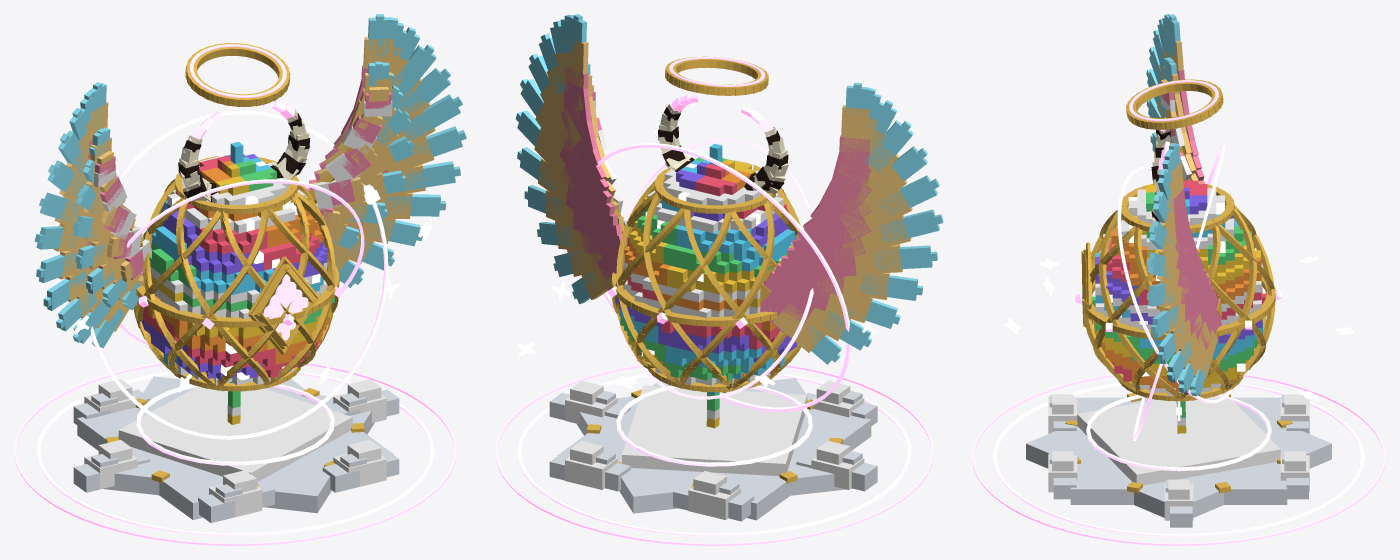
Rendered from egg_leg_arcoiris.glb.
3 views of the same model, side by side, from view 1: azimuth 30°, elevation 25°; view 2: azimuth 150°, elevation 25°; view 3: azimuth 270°, elevation 25° (orthographic). The views are drawn at different scales.
Parts seen in each view (by area): view 1: root_geo, wing_L_geo, shell_geo, wing_R_geo, egg_geo, floor_rings_geo, orbit1_geo, crown_geo, emblem_geo, halo_geo, orbit2_geo; view 2: root_geo, wing_R_geo, shell_geo, wing_L_geo, egg_geo, floor_rings_geo, crown_geo, orbit1_geo, halo_geo, orbit2_geo; view 3: root_geo, shell_geo, egg_geo, wing_L_geo, floor_rings_geo, wing_R_geo, halo_geo, orbit2_geo, orbit1_geo, crown_geo, emblem_geo.
Boxes of the visible parts, bbox=[...] form: root_geo: bbox=[73, 376, 399, 522]; wing_L_geo: bbox=[306, 14, 466, 287]; shell_geo: bbox=[137, 142, 334, 424]; wing_R_geo: bbox=[34, 82, 151, 348]; egg_geo: bbox=[133, 155, 343, 391]; floor_rings_geo: bbox=[14, 362, 456, 545]; orbit1_geo: bbox=[90, 110, 388, 439]; crown_geo: bbox=[178, 100, 310, 207]; emblem_geo: bbox=[248, 256, 319, 354]; halo_geo: bbox=[185, 43, 290, 106]; orbit2_geo: bbox=[120, 179, 364, 345]; root_geo: bbox=[549, 378, 877, 521]; wing_R_geo: bbox=[755, 82, 943, 364]; shell_geo: bbox=[616, 143, 797, 428]; wing_L_geo: bbox=[515, 14, 629, 304]; egg_geo: bbox=[607, 160, 801, 392]; floor_rings_geo: bbox=[495, 364, 933, 545]; crown_geo: bbox=[658, 94, 788, 194]; orbit1_geo: bbox=[597, 143, 851, 411]; halo_geo: bbox=[665, 56, 768, 95]; orbit2_geo: bbox=[614, 138, 813, 399]; root_geo: bbox=[1026, 393, 1331, 527]; shell_geo: bbox=[1092, 180, 1266, 433]; egg_geo: bbox=[1075, 182, 1282, 401]; wing_L_geo: bbox=[1146, 143, 1221, 396]; floor_rings_geo: bbox=[972, 374, 1385, 545]; wing_R_geo: bbox=[1146, 14, 1205, 183]; halo_geo: bbox=[1126, 79, 1223, 129]; orbit2_geo: bbox=[1117, 166, 1232, 403]; orbit1_geo: bbox=[1132, 144, 1225, 441]; crown_geo: bbox=[1151, 117, 1170, 222]; emblem_geo: bbox=[1081, 242, 1092, 327].
Bounding box in the file's own units: 10.64 × 9.57 × 9.46.
